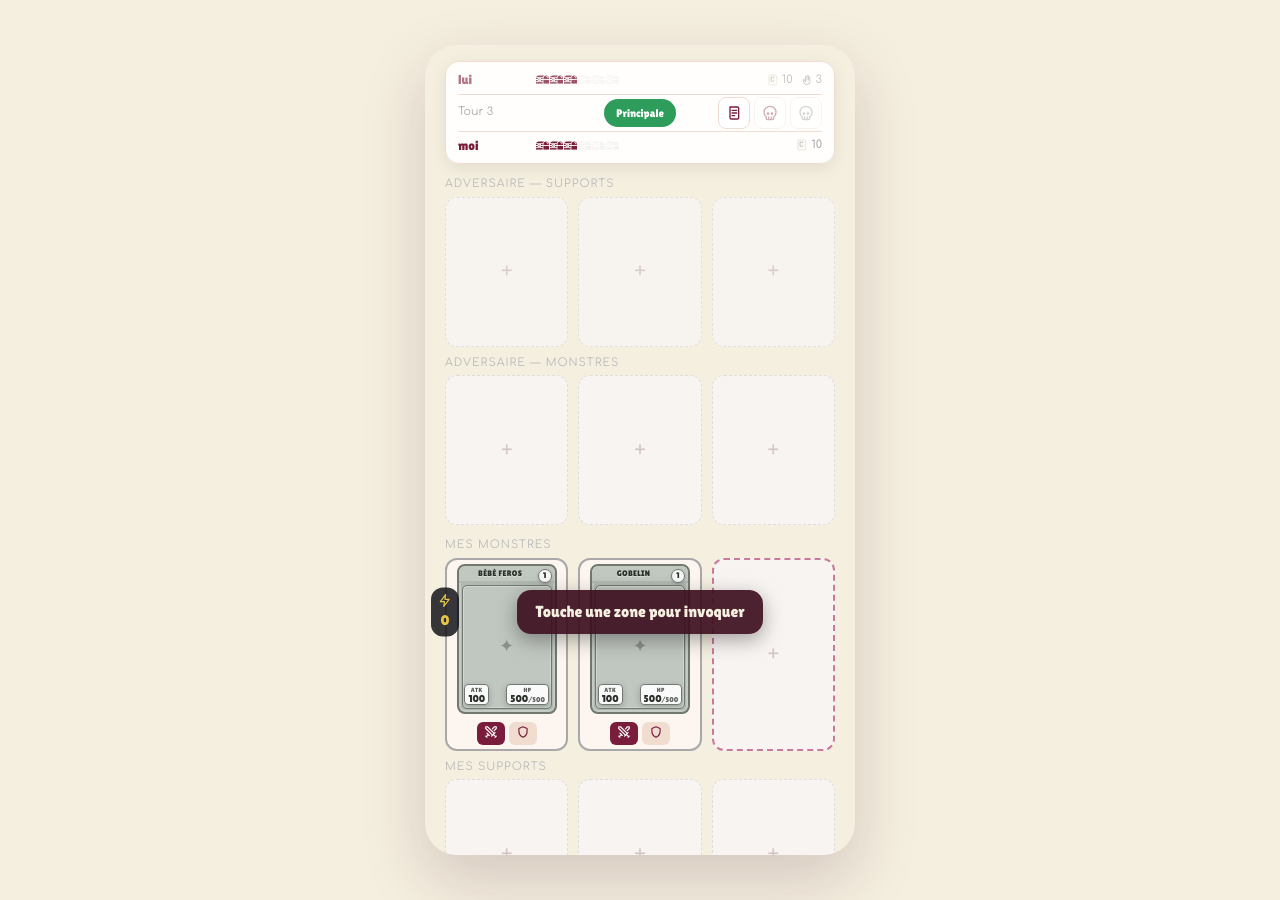
FightBoard — confirmations et recyclage rapide › énergie en trop : l'avertissement l'indique
Click the element with class "zr-zone" below "Mes Monstres": (773, 654) x1=712 y1=558 x2=835 y2=750
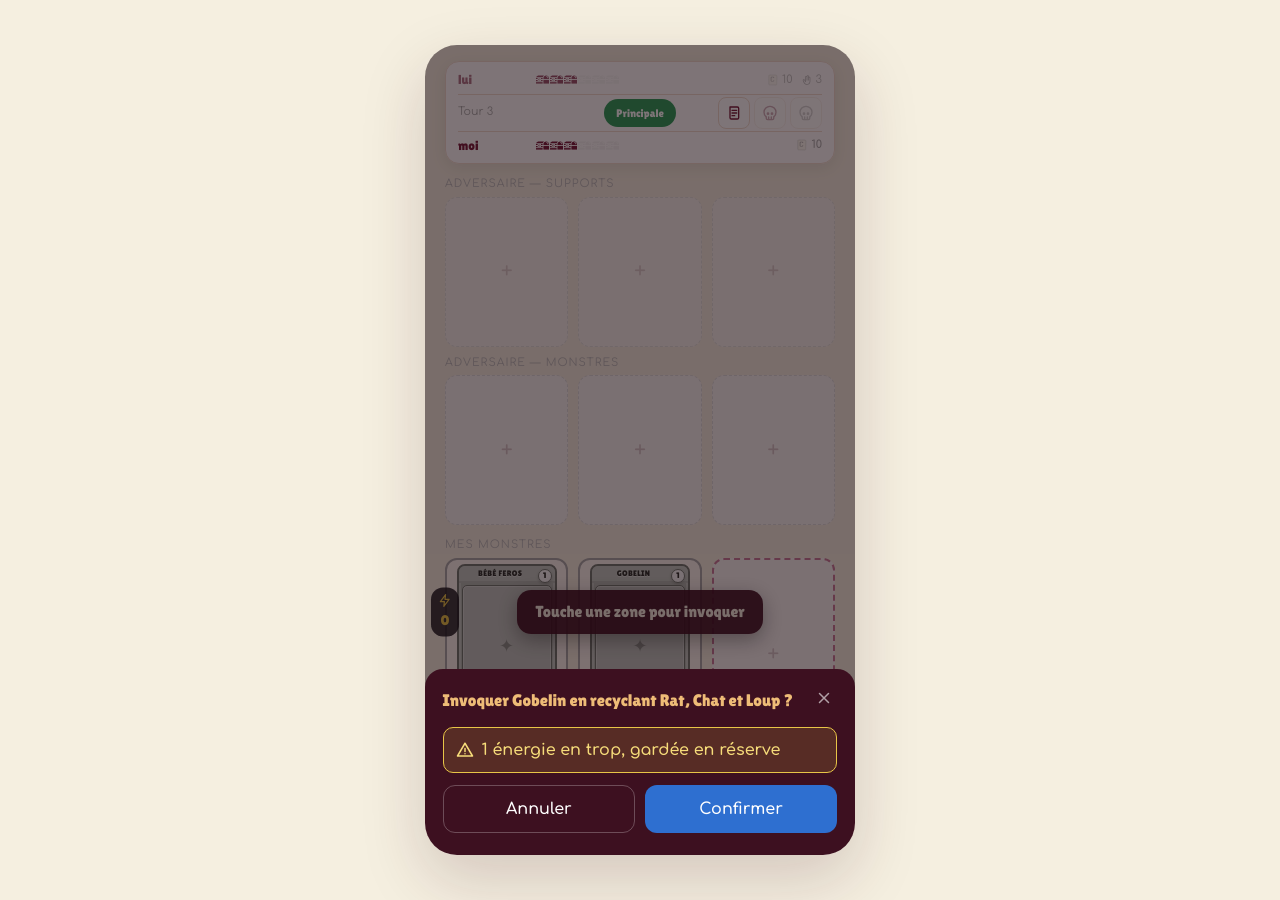
Result: the message reads "1 énergie en trop, gardée en réserve" at x1=482 y1=741 x2=780 y2=759
